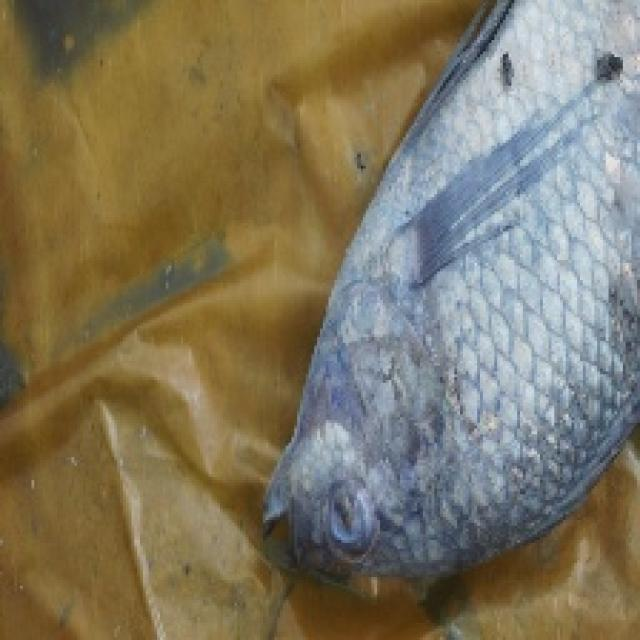Non-Fresh: (254, 3, 640, 612)
